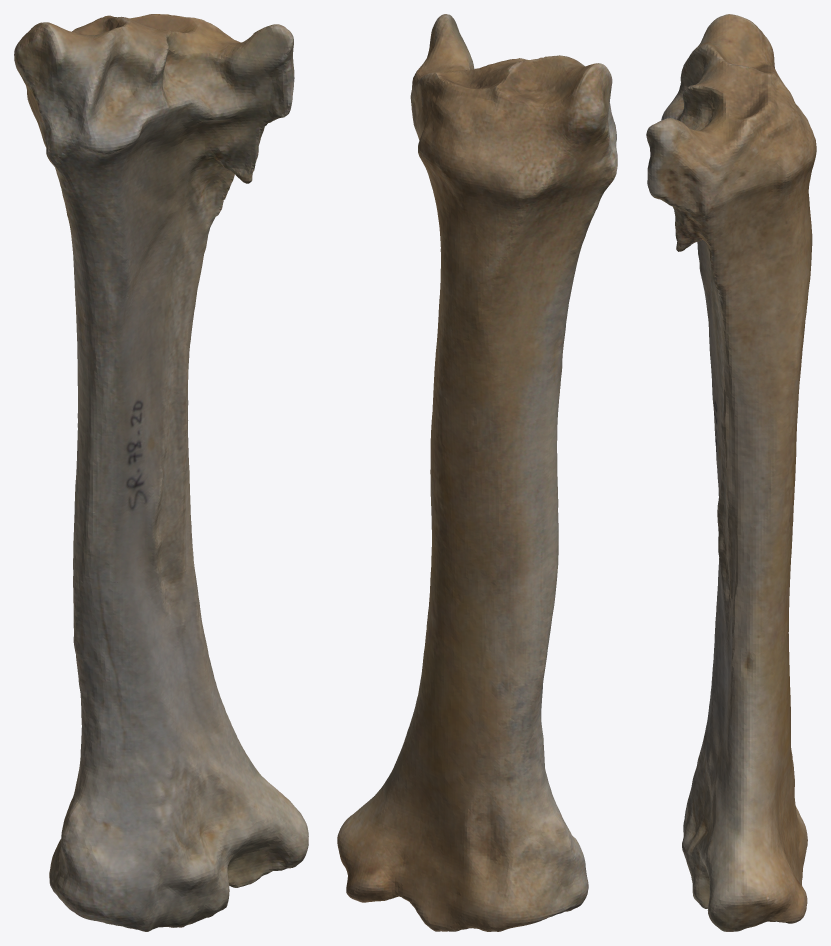
3 views of the same model, side by side, from view 1: azimuth 30°, elevation 25°; view 2: azimuth 150°, elevation 25°; view 3: azimuth 270°, elevation 25° (orthographic). The views are drawn at different scales.
Visible parts, largest first — view 1: Node; view 2: Node; view 3: Node.
Boxes of the visible parts, x1,y1,x2,y2 form: Node: (14,14,308,931); Node: (337,14,617,931); Node: (646,14,816,931).
Size of the model in its own units: 87.29 by 277 by 51.49.
Materials: 1 (1 with a texture image).
